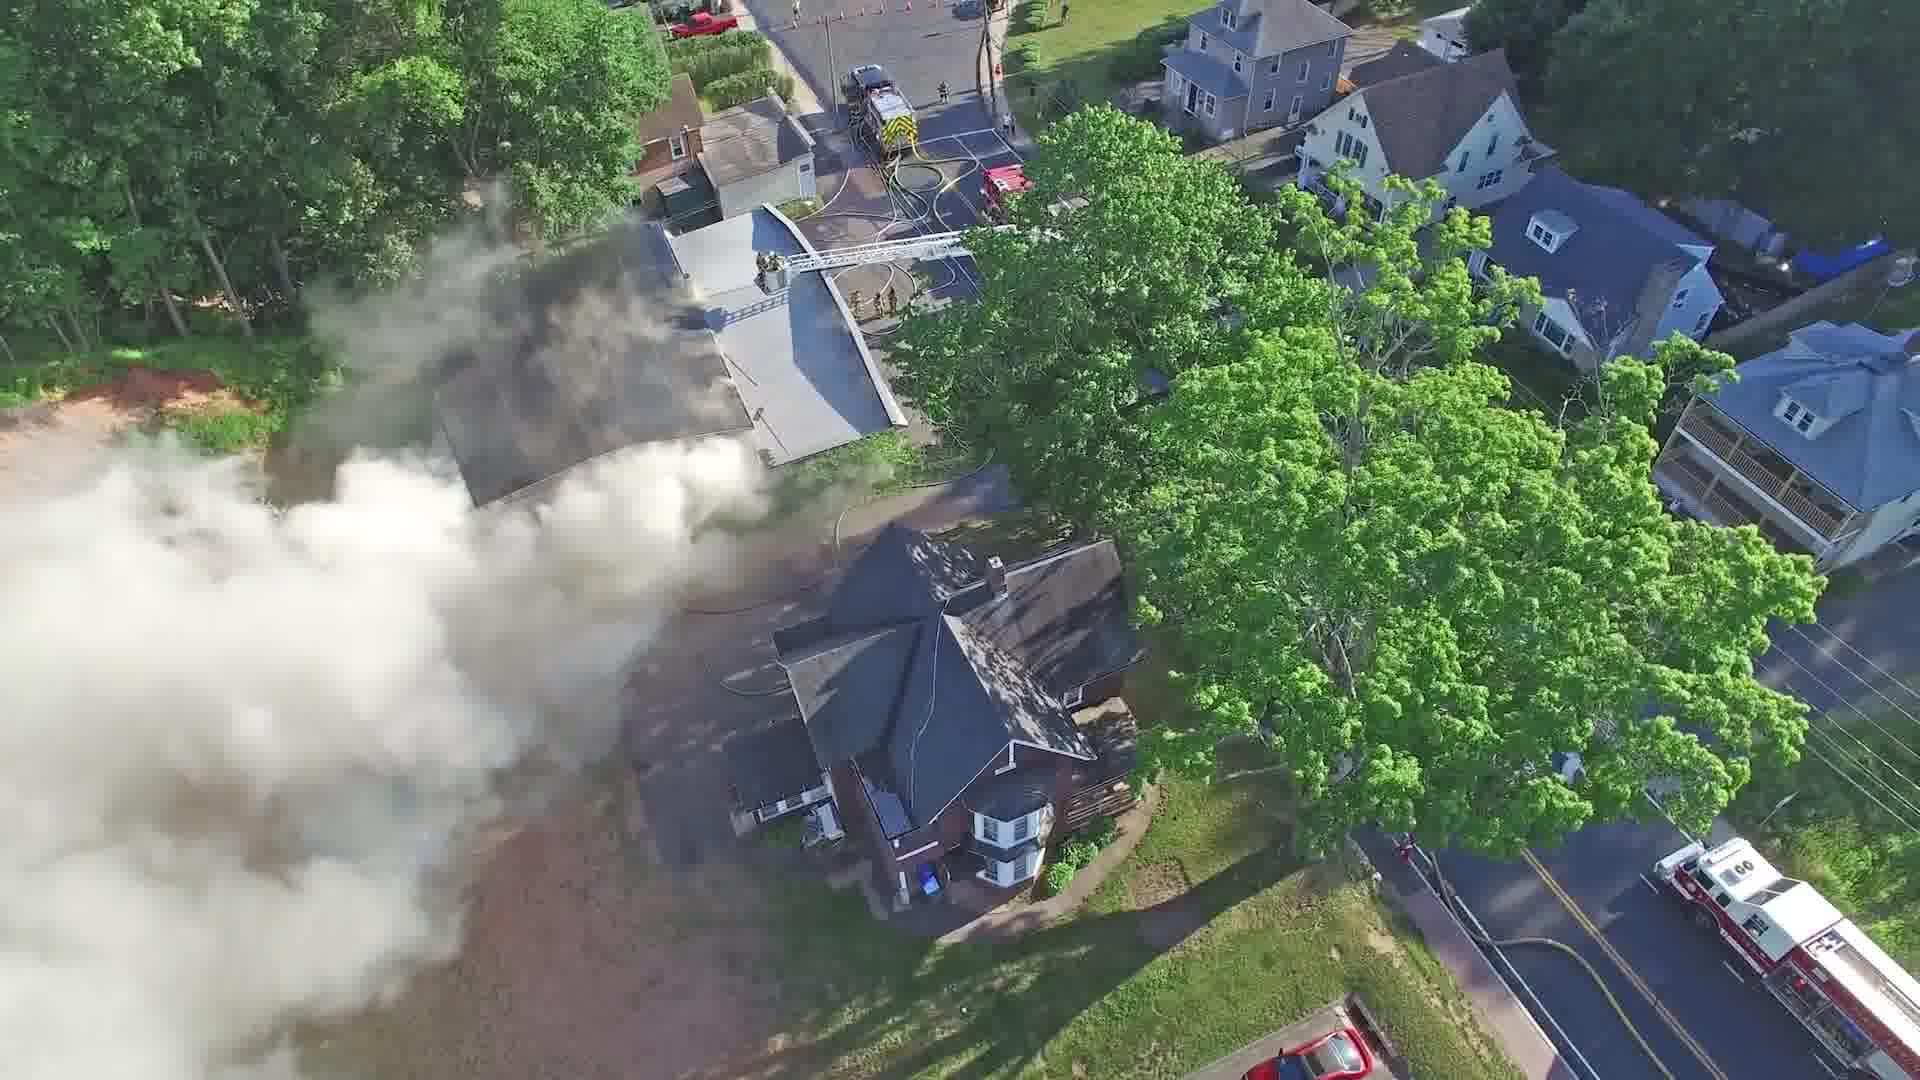smoke: (0, 443, 781, 1075)
